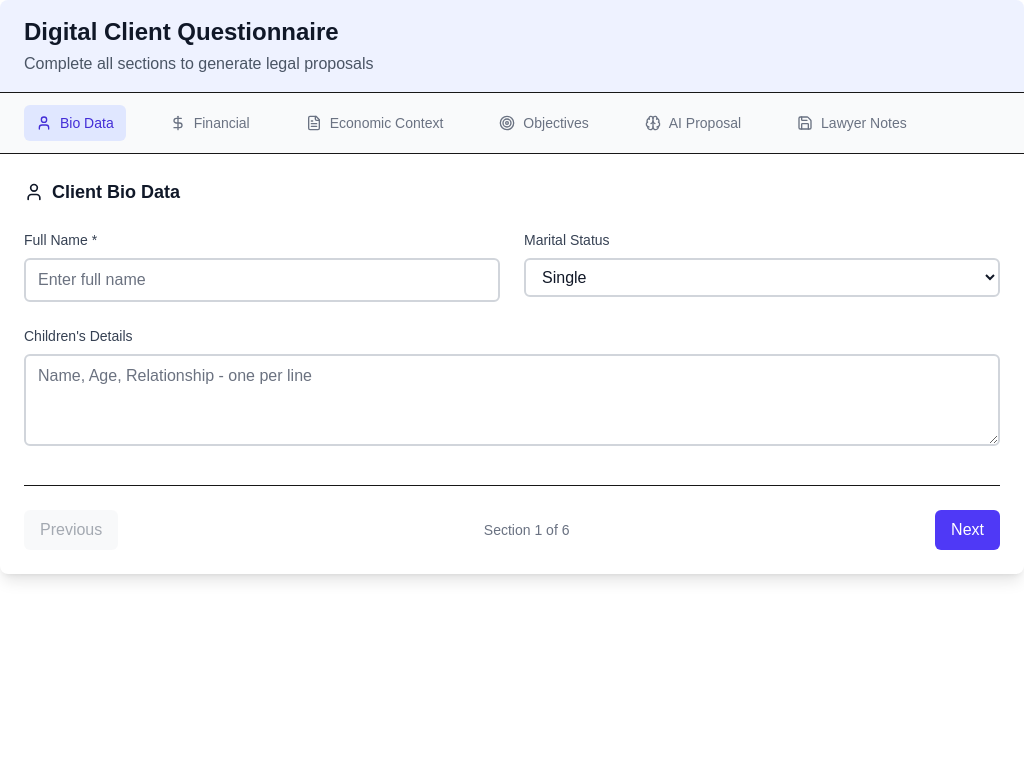
Test case: QuestionnaireForm › Financial Data Section › displays asset management controls
The image size is (1024, 768).
Click the button "Financial".
click(210, 123)  # box 158,105 -> 262,141
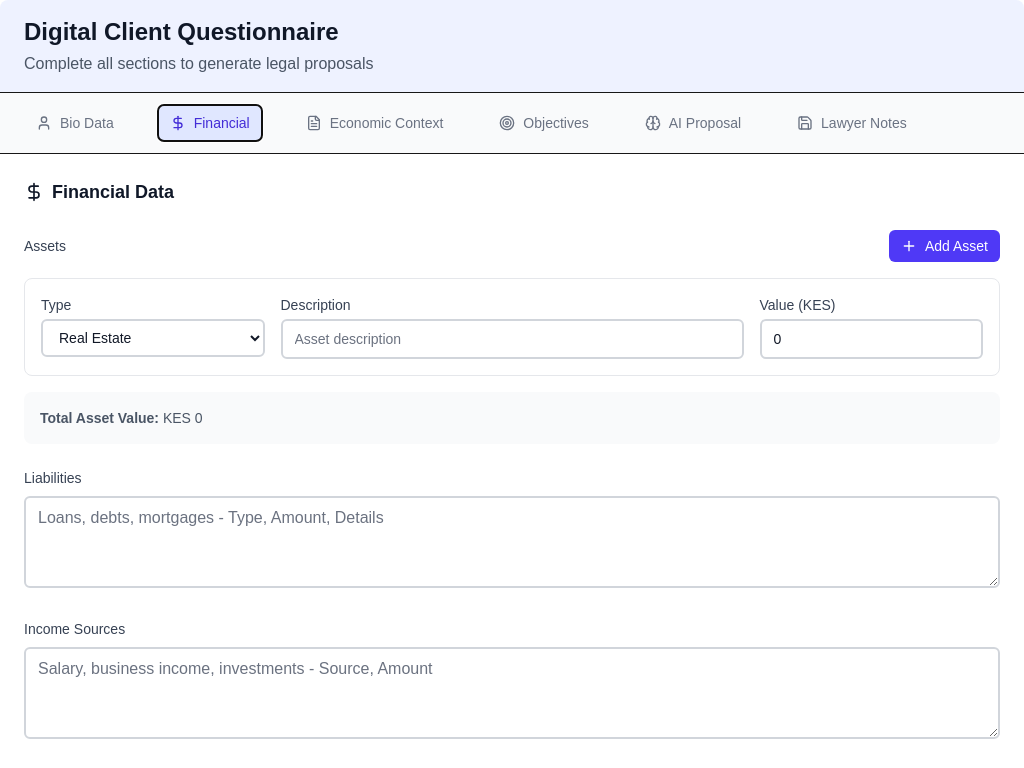
Now the text "Assets" is shown, box 24,236 -> 66,256
Now the text "Add Asset" is shown, box 925,236 -> 988,256
